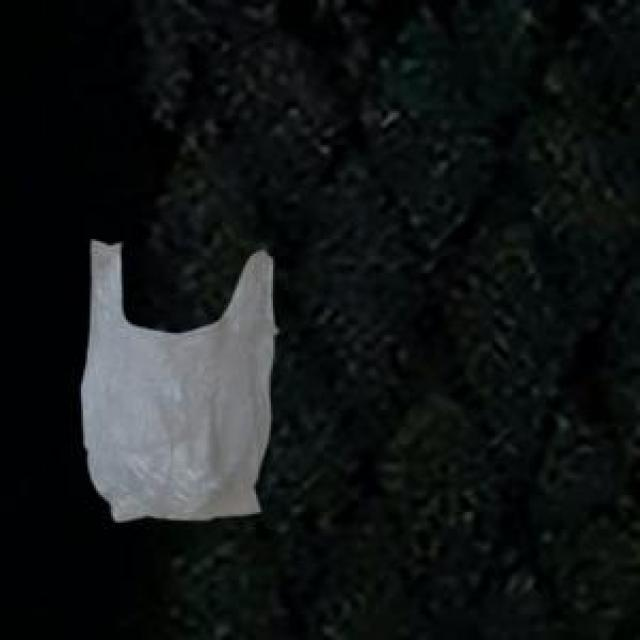waste: (84, 242, 276, 522)
